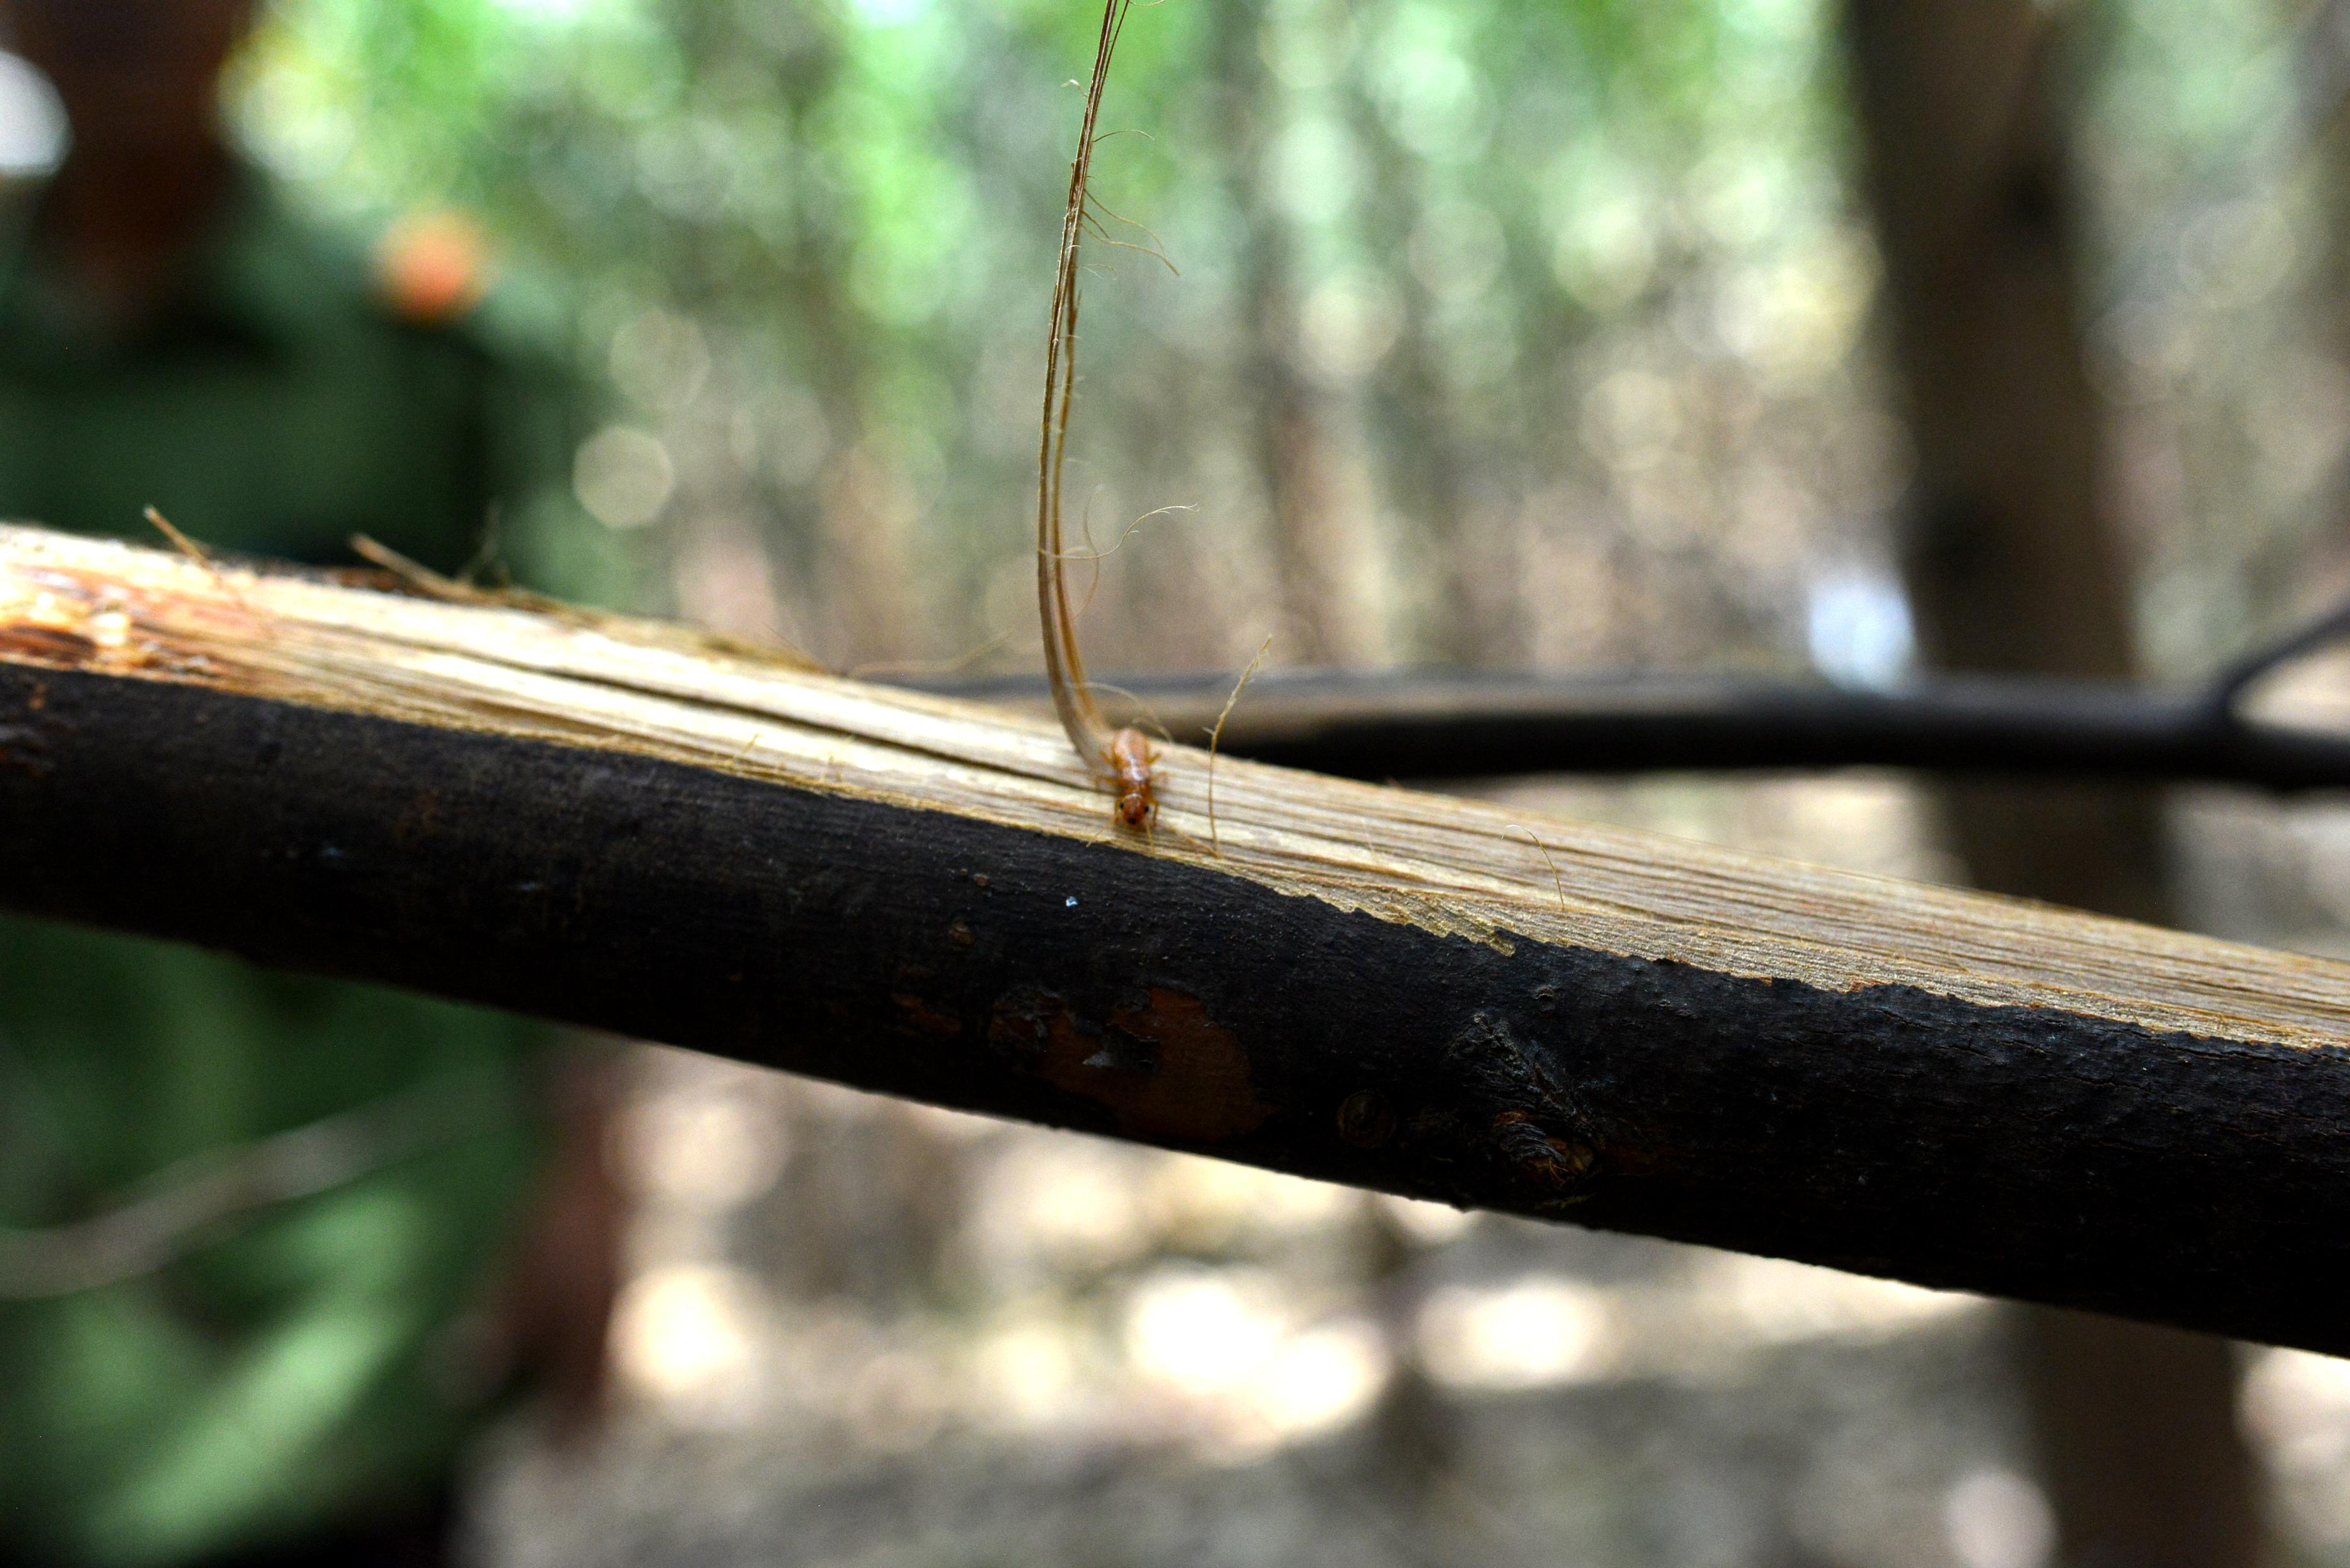Termite: (1090, 719, 1171, 817)
